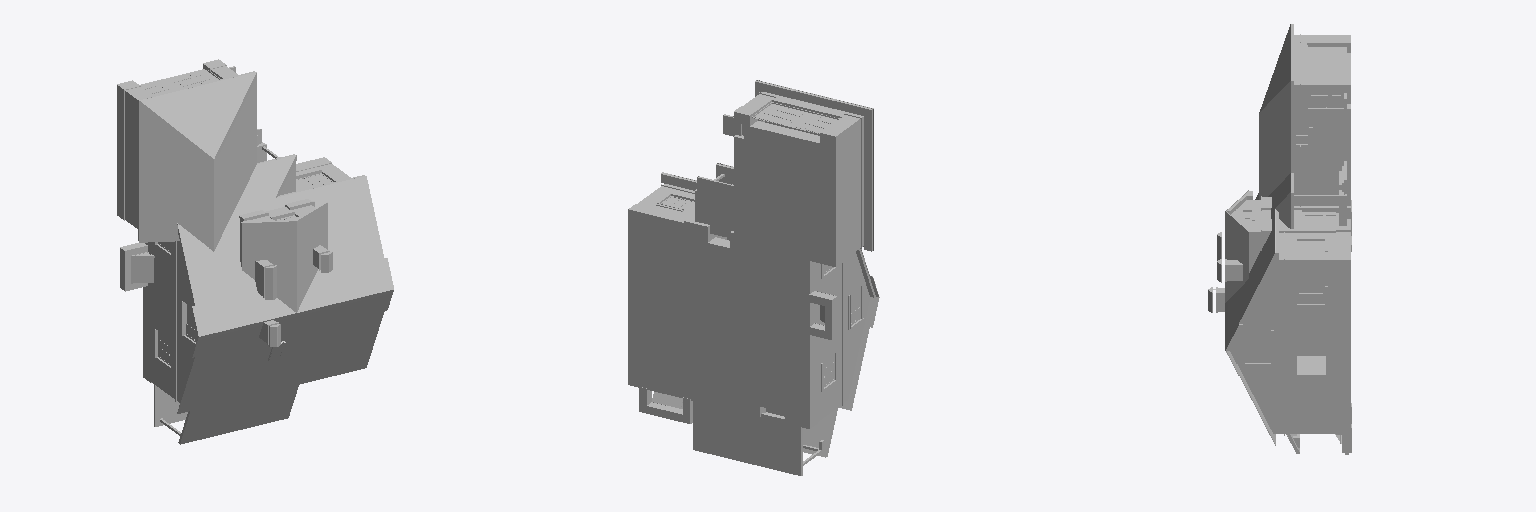
File: House 2 N040310.obj
3 renders of one model, left to right at view 1: azimuth 30°, elevation 25°; view 2: azimuth 150°, elevation 25°; view 3: azimuth 270°, elevation 25°, orthographic.
Bounding box in the file's own units: 14850 × 22801 × 8345.